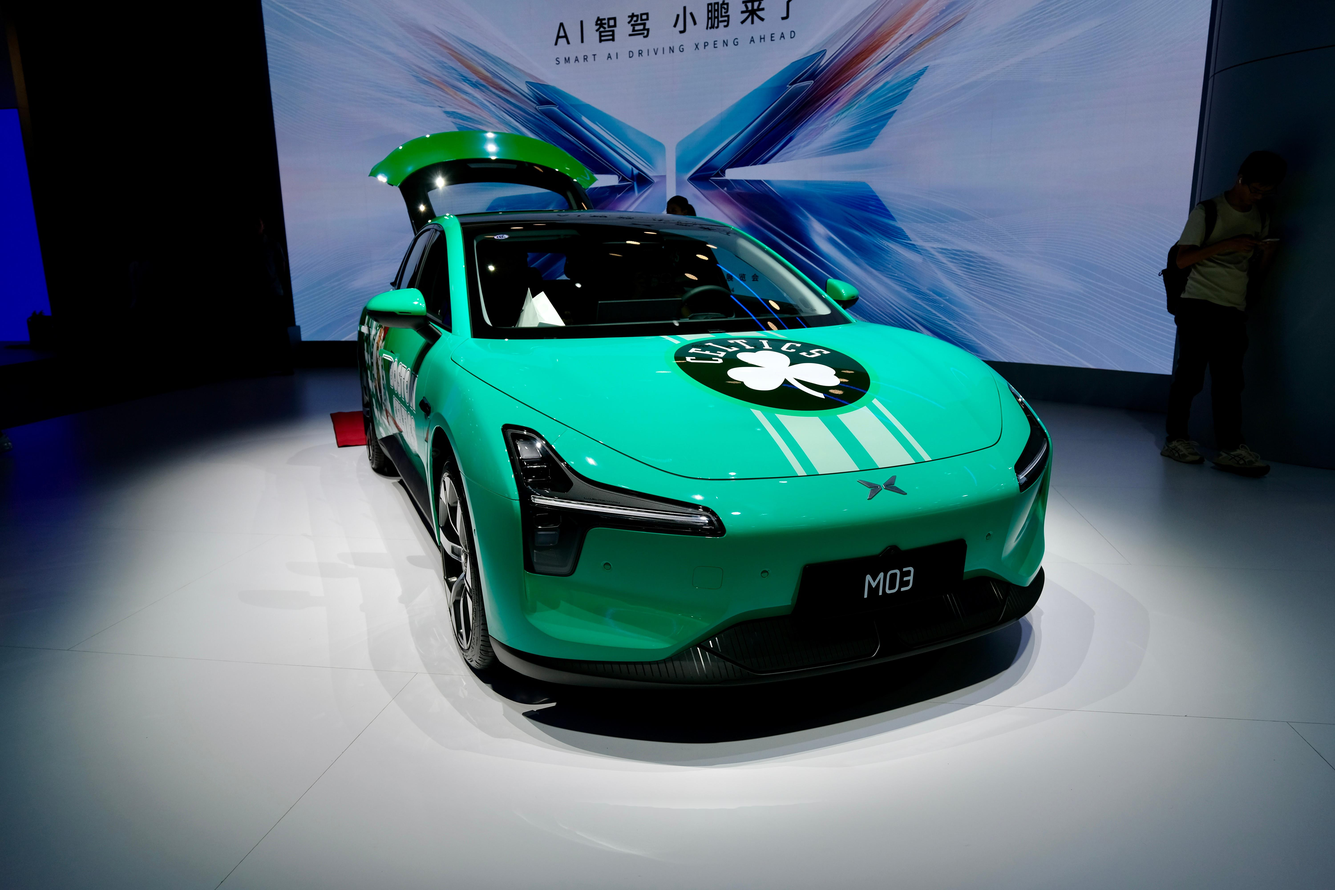other: (331, 196, 1057, 710)
